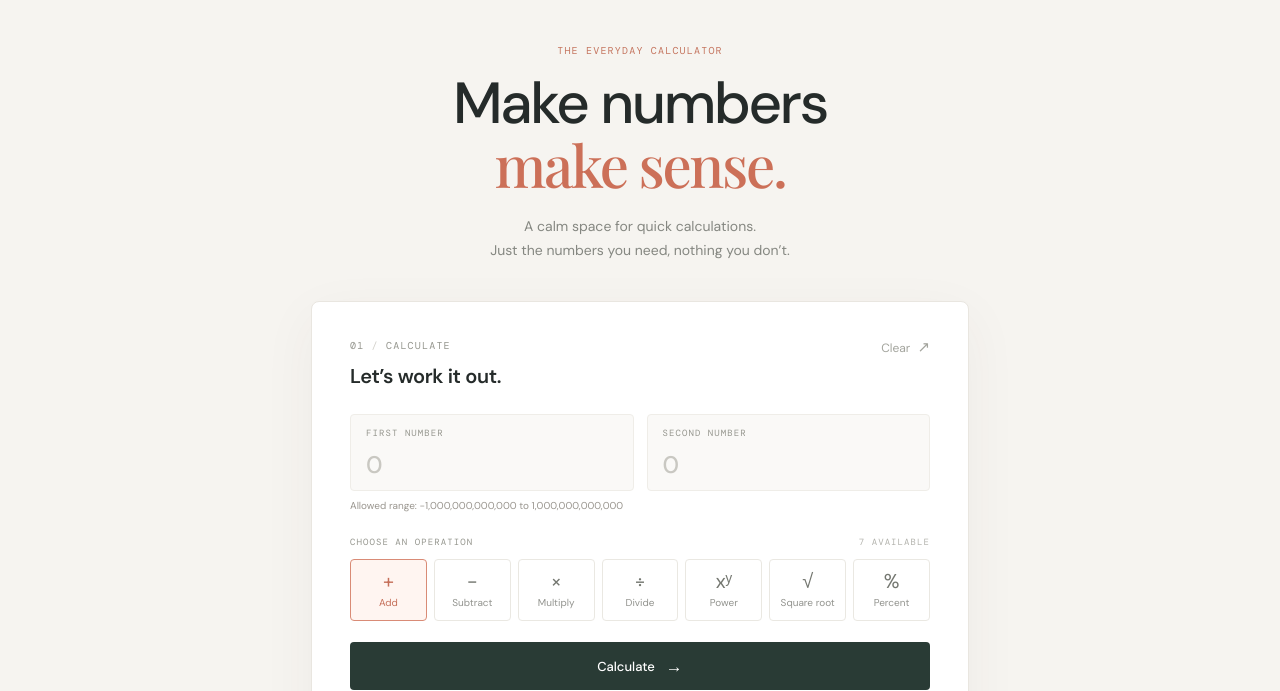
calculator › sends a calculation to the API and displays its result
Type "10" into the number field labelled "FIRST NUMBER" at [492, 465], box left=366, top=449, right=618, bottom=480
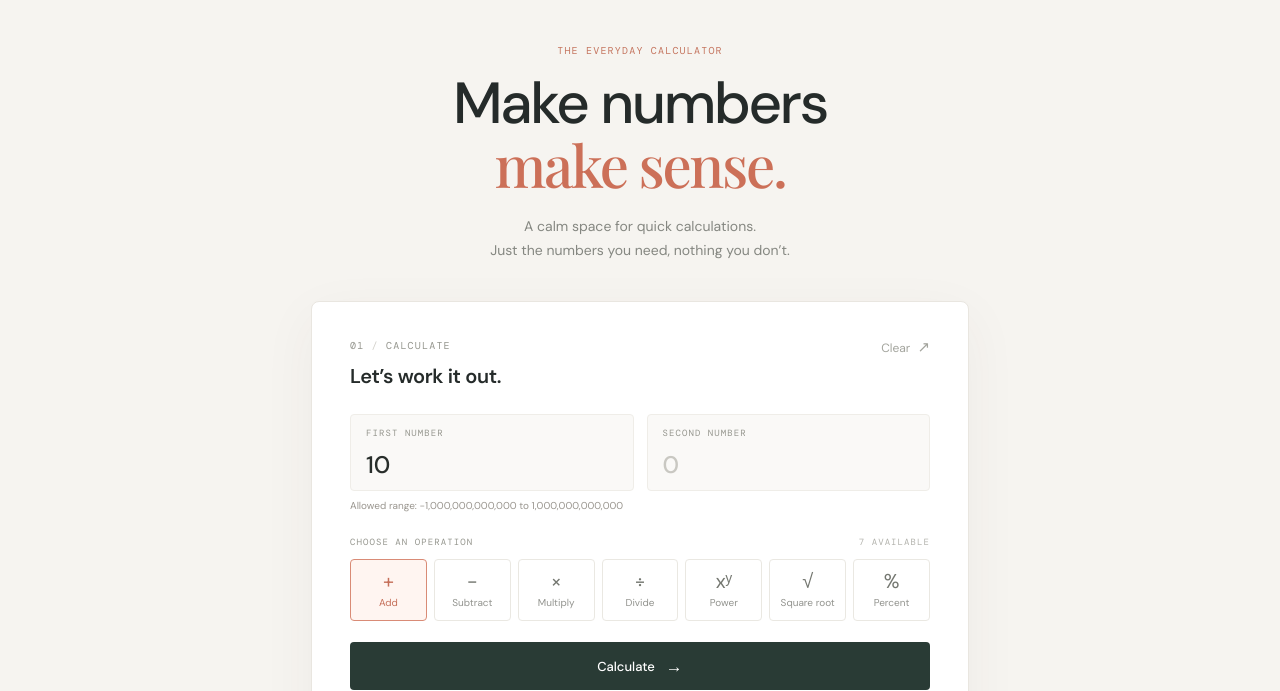
Type "5" into the number field labelled "SECOND NUMBER" at [788, 465], box left=662, top=449, right=914, bottom=480
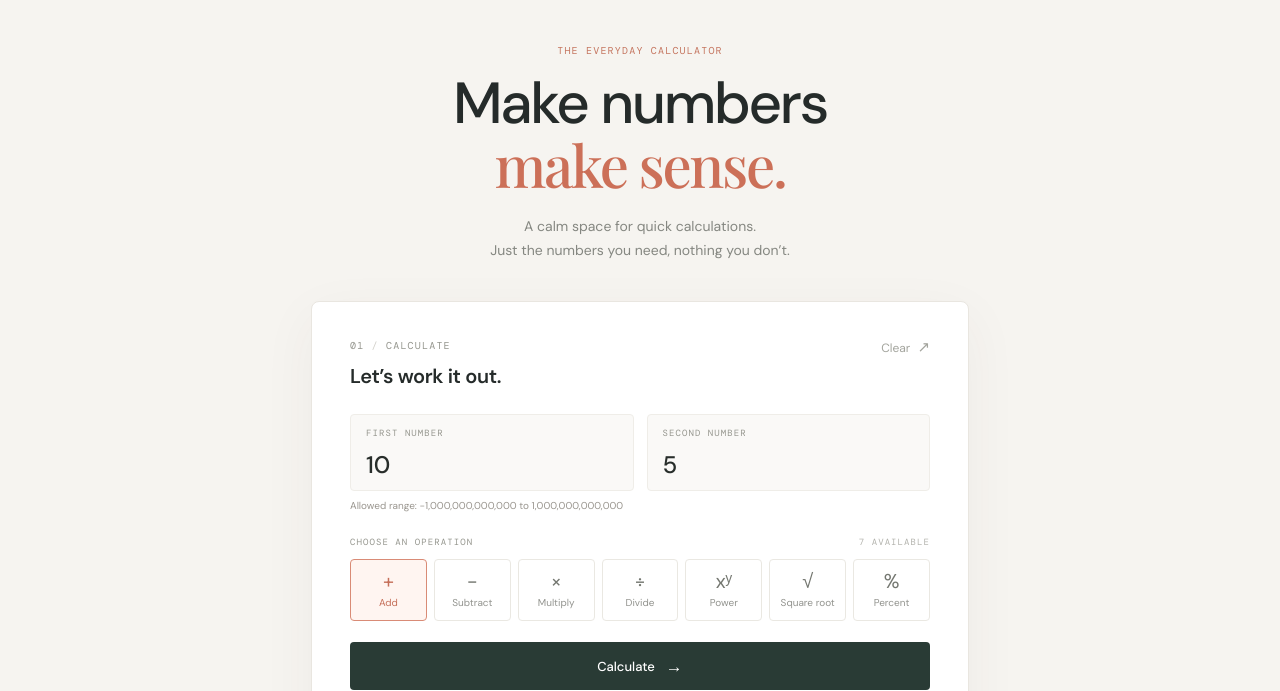
Click the button "Calculate →" at [640, 666], box left=350, top=642, right=930, bottom=690
(page scrolled)
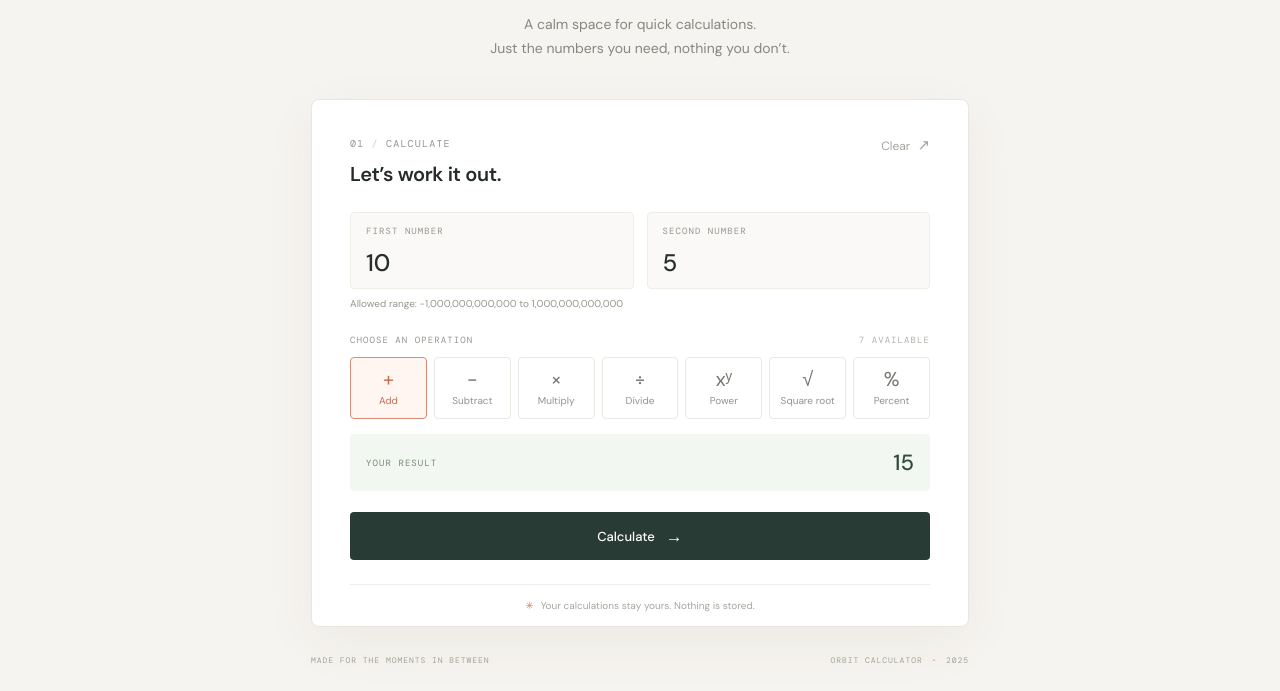
Expected: the message shows "15", left=893, top=448, right=914, bottom=477
